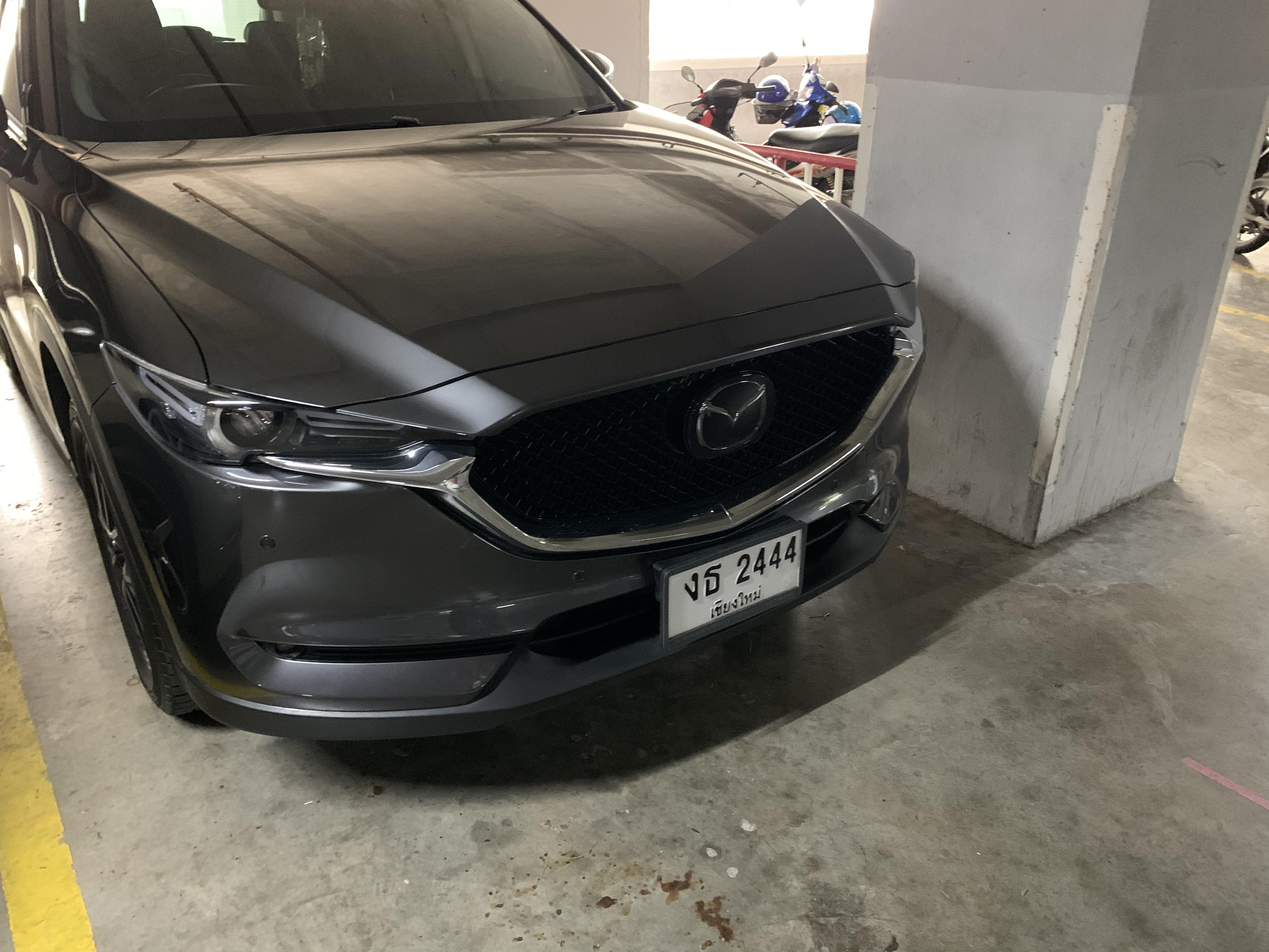license-plate: (657, 521, 813, 651)
